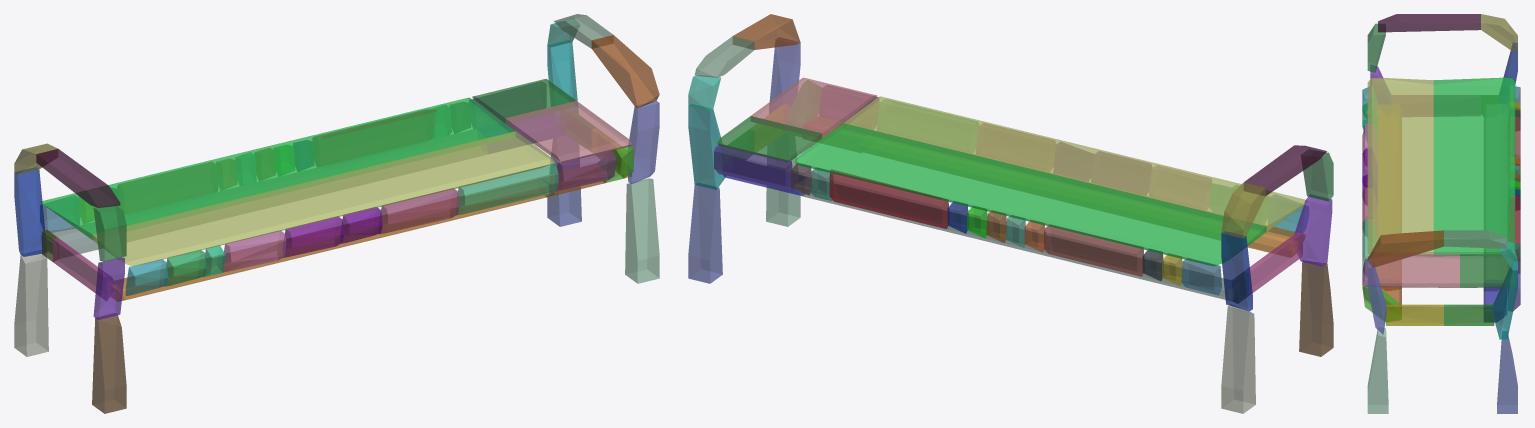
3 views of the same model, side by side, from view 1: azimuth 30°, elevation 25°; view 2: azimuth 150°, elevation 25°; view 3: azimuth 270°, elevation 25° (orthographic). The views are drawn at different scales.
Visible parts, largest first — view 1: Shape_IndexedFaceSet.001, Shape_IndexedFaceSet.002, Shape_IndexedFaceSet.011, Shape_IndexedFaceSet.010, Shape_IndexedFaceSet.004, Shape_IndexedFaceSet.048, Shape_IndexedFaceSet, Shape_IndexedFaceSet.018, Shape_IndexedFaceSet.046, Shape_IndexedFaceSet.021, Shape_IndexedFaceSet.032, Shape_IndexedFaceSet.003 (+26 smaller); view 2: Shape_IndexedFaceSet.001, Shape_IndexedFaceSet.002, Shape_IndexedFaceSet.010, Shape_IndexedFaceSet.011, Shape_IndexedFaceSet.004, Shape_IndexedFaceSet.048, Shape_IndexedFaceSet, Shape_IndexedFaceSet.032, Shape_IndexedFaceSet.025, Shape_IndexedFaceSet.046, Shape_IndexedFaceSet.003, Shape_IndexedFaceSet.021 (+25 smaller); view 3: Shape_IndexedFaceSet.001, Shape_IndexedFaceSet.002, Shape_IndexedFaceSet.010, Shape_IndexedFaceSet.011, Shape_IndexedFaceSet.004, Shape_IndexedFaceSet.003, Shape_IndexedFaceSet.007, Shape_IndexedFaceSet.005, Shape_IndexedFaceSet.009, Shape_IndexedFaceSet.018, Shape_IndexedFaceSet.025, Shape_IndexedFaceSet.027 (+25 smaller).
Part boxes in pixels (bbox=[...]): Shape_IndexedFaceSet.001: bbox=[40, 97, 515, 239]; Shape_IndexedFaceSet.002: bbox=[92, 131, 554, 266]; Shape_IndexedFaceSet.011: bbox=[110, 178, 548, 301]; Shape_IndexedFaceSet.010: bbox=[41, 129, 486, 258]; Shape_IndexedFaceSet.004: bbox=[505, 101, 631, 163]; Shape_IndexedFaceSet.048: bbox=[313, 110, 436, 166]; Shape_IndexedFaceSet: bbox=[14, 250, 48, 356]; Shape_IndexedFaceSet.018: bbox=[625, 178, 659, 283]; Shape_IndexedFaceSet.046: bbox=[117, 162, 217, 213]; Shape_IndexedFaceSet.021: bbox=[92, 313, 126, 413]; Shape_IndexedFaceSet.032: bbox=[456, 164, 558, 215]; Shape_IndexedFaceSet.003: bbox=[472, 79, 576, 123]; Shape_IndexedFaceSet.001: bbox=[794, 123, 1266, 266]; Shape_IndexedFaceSet.002: bbox=[843, 96, 1308, 231]; Shape_IndexedFaceSet.010: bbox=[796, 178, 1233, 300]; Shape_IndexedFaceSet.011: bbox=[860, 131, 1306, 257]; Shape_IndexedFaceSet.004: bbox=[751, 77, 877, 138]; Shape_IndexedFaceSet.048: bbox=[829, 169, 949, 229]; Shape_IndexedFaceSet: bbox=[1221, 304, 1255, 413]; Shape_IndexedFaceSet.032: bbox=[877, 99, 978, 152]; Shape_IndexedFaceSet.025: bbox=[688, 183, 722, 283]; Shape_IndexedFaceSet.046: bbox=[1044, 225, 1144, 276]; Shape_IndexedFaceSet.003: bbox=[717, 116, 821, 162]; Shape_IndexedFaceSet.021: bbox=[1299, 261, 1333, 356]; Shape_IndexedFaceSet.001: bbox=[1433, 77, 1515, 255]; Shape_IndexedFaceSet.002: bbox=[1367, 77, 1433, 255]; Shape_IndexedFaceSet.010: bbox=[1484, 104, 1507, 290]; Shape_IndexedFaceSet.011: bbox=[1378, 107, 1401, 290]; Shape_IndexedFaceSet.004: bbox=[1367, 254, 1459, 287]; Shape_IndexedFaceSet.003: bbox=[1460, 254, 1514, 287]; Shape_IndexedFaceSet.007: bbox=[1392, 95, 1480, 116]; Shape_IndexedFaceSet.005: bbox=[1367, 230, 1443, 267]; Shape_IndexedFaceSet.009: bbox=[1378, 14, 1480, 32]; Shape_IndexedFaceSet.018: bbox=[1367, 327, 1388, 413]; Shape_IndexedFaceSet.025: bbox=[1497, 331, 1517, 413]; Shape_IndexedFaceSet.027: bbox=[1386, 304, 1443, 325].
Size of the model in its own units: 0.9129 by 0.3299 by 0.2711.
